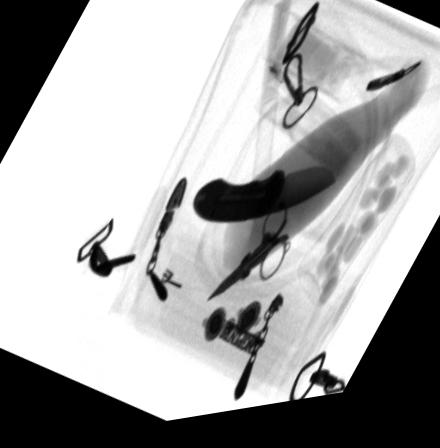Knife: (193, 176, 337, 231)
Scissors: (205, 209, 291, 307)
